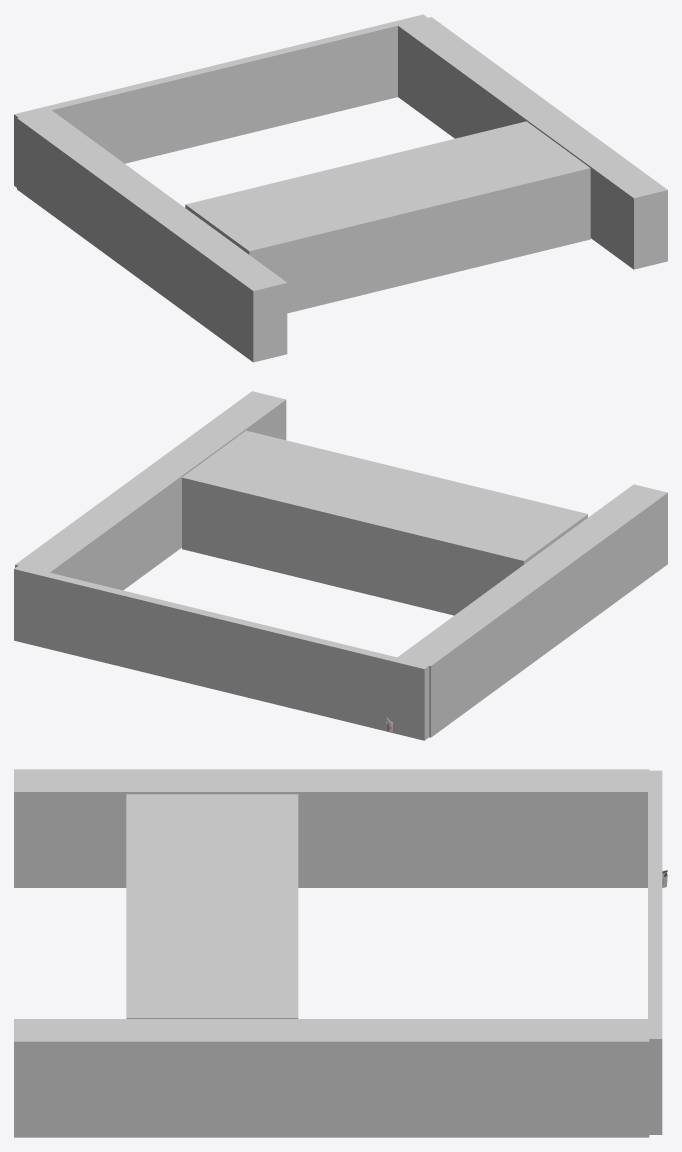
Rendered from ichirakuRamenColision.glb.
The picture shows the model from 3 angles, top to bottom: view 1: azimuth 30°, elevation 25°; view 2: azimuth 150°, elevation 25°; view 3: azimuth 270°, elevation 25°; orthographic projection. The views are drawn at different scales.
Visible parts, largest first — view 1: caja_colision_i; view 2: caja_colision_i; view 3: caja_colision_i.
Part boxes in pixels (left/top/right/bottom): caja_colision_i: left=14, top=14, right=667, bottom=362; caja_colision_i: left=14, top=391, right=667, bottom=740; caja_colision_i: left=14, top=769, right=662, bottom=1137.
Size of the model in its own units: 0.3647 by 0.06 by 0.3705.
1 material, 1 textured.
